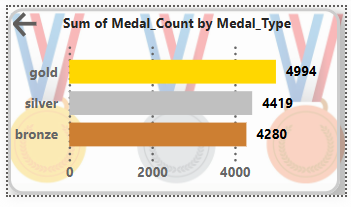

The dashboard page shown, as its layout file describes it:
{"tool":"powerbi","page":{"name":"Tooltip_Medals","canvas":[270,150],"ordinal":2},"visuals":[{"type":"barChart","fields":{"Category":["Overall Rank.Medal_Type"],"Y":["Sum(Overall Rank.Medal_Count)"]},"box":[0,1,266,149],"z":0},{"type":"actionButton","box":[0,0,48,28],"z":1000}]}

Visuals, with their boxes in screenshot pixels (x1, y1, x2, y2):
barChart - Overall Rank.Medal_Type x Sum(Overall Rank.Medal_Count): select_region(5, 5, 346, 196)
actionButton: select_region(5, 4, 66, 40)
